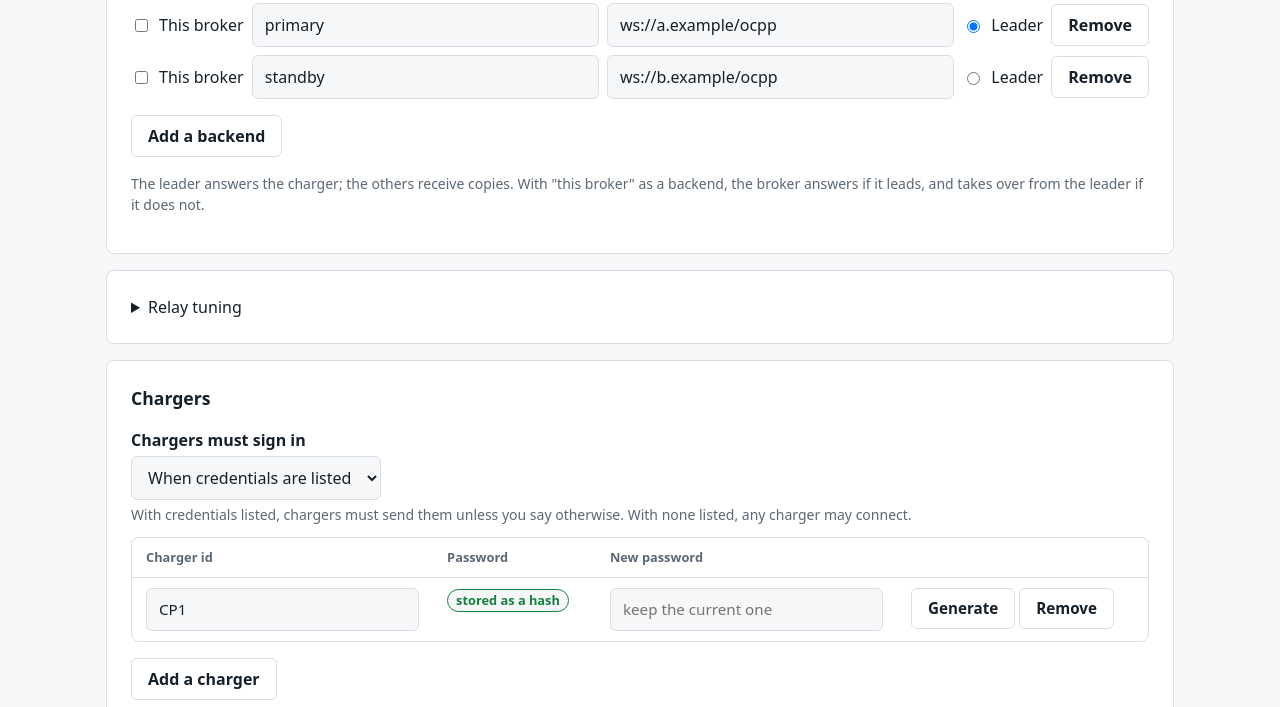
changing an organization › shows the errors of a check, and offers no way to apply
(page scrolled)
Type "50" into the field named "Held frames".
click(640, 307); type("50")  # box [106, 270, 1174, 344]
(page scrolled)
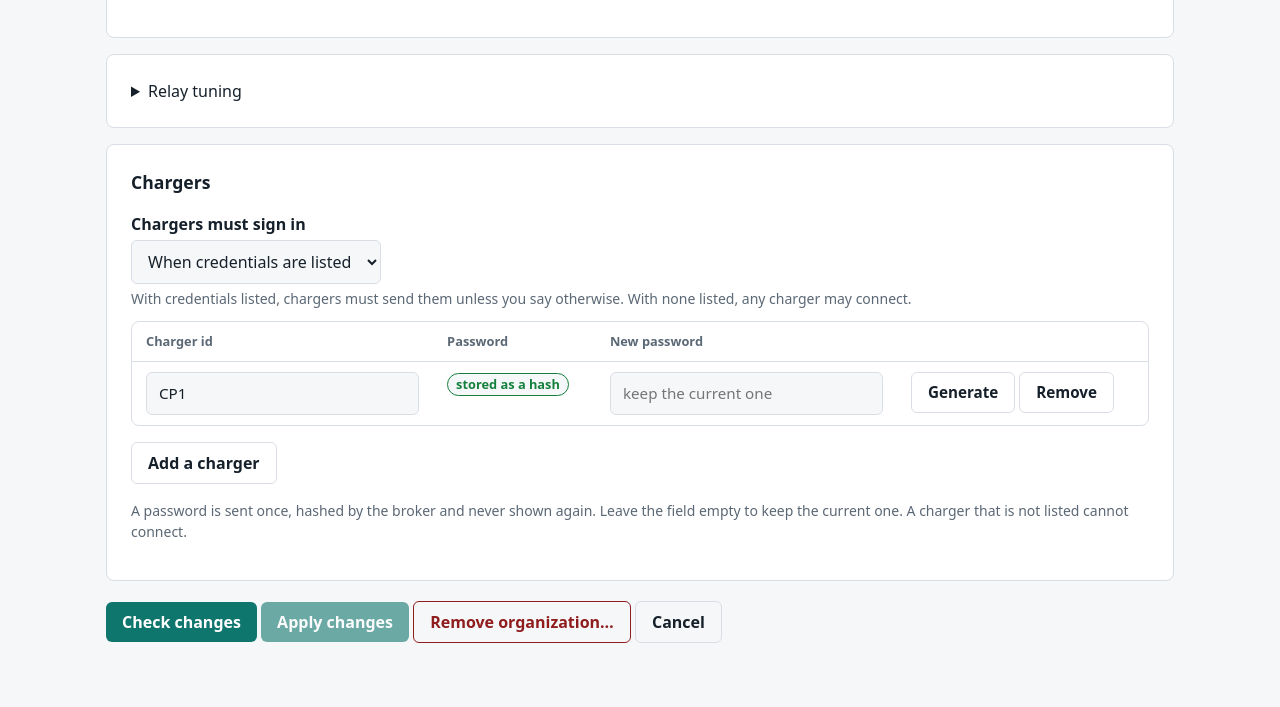
Click the button "Check changes".
click(181, 622)  # box [106, 602, 257, 642]
(page scrolled)
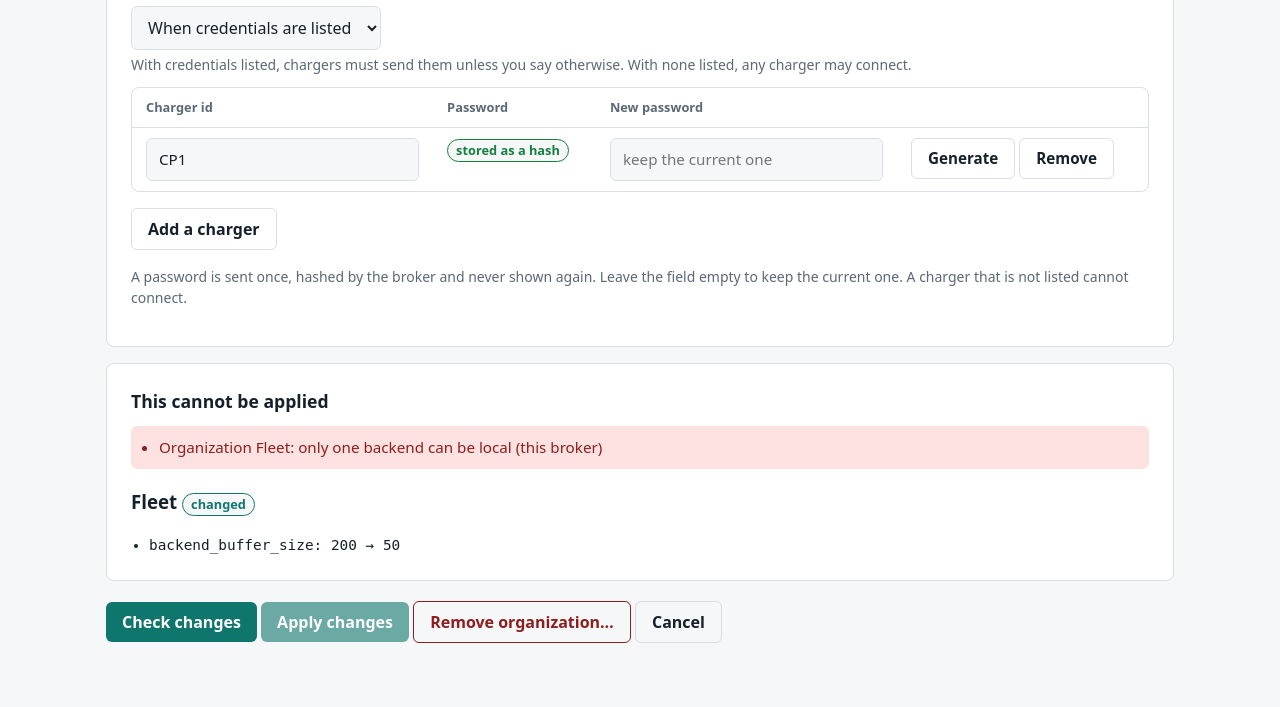
Expected: the button "Apply changes" is disabled, [261, 602, 409, 642]
Now the message shows "only one backend can be local", box [159, 437, 602, 457]
